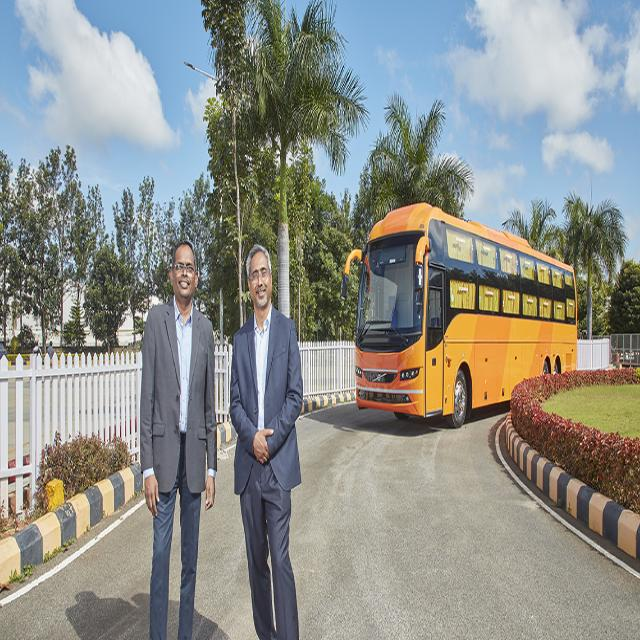bus: (343, 203, 578, 427)
